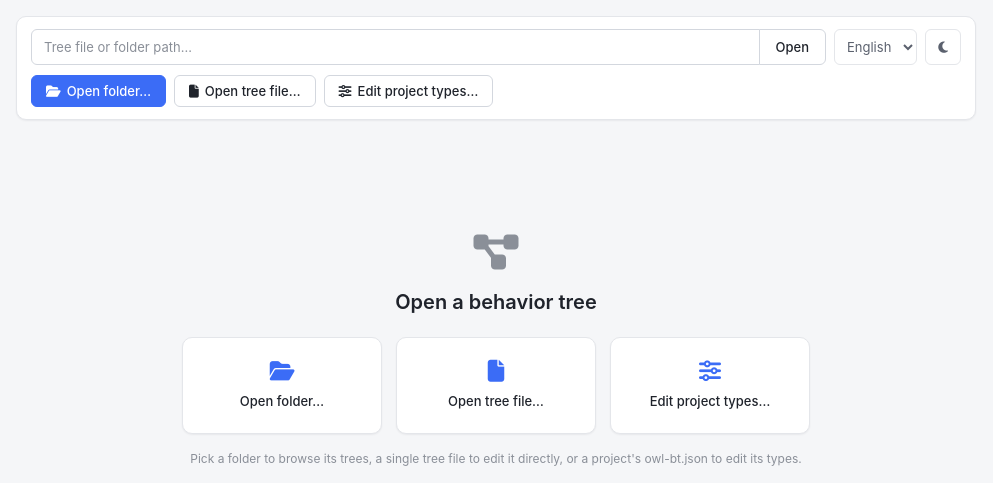
Scenario: Home › Open folder › shows an inline message when the folder cannot be read
Step 1. Click the 1st button "Open folder…" → [98, 91], box [31,75,166,107]
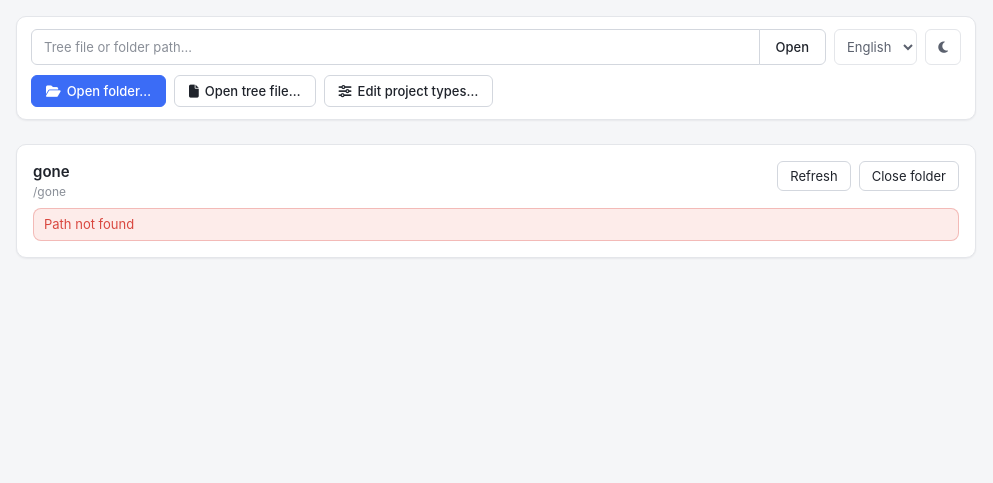
Check: the message reads "Path not found", box [44,216,134,232]
Check: the button "Close folder" is shown, box [859,161,959,191]
